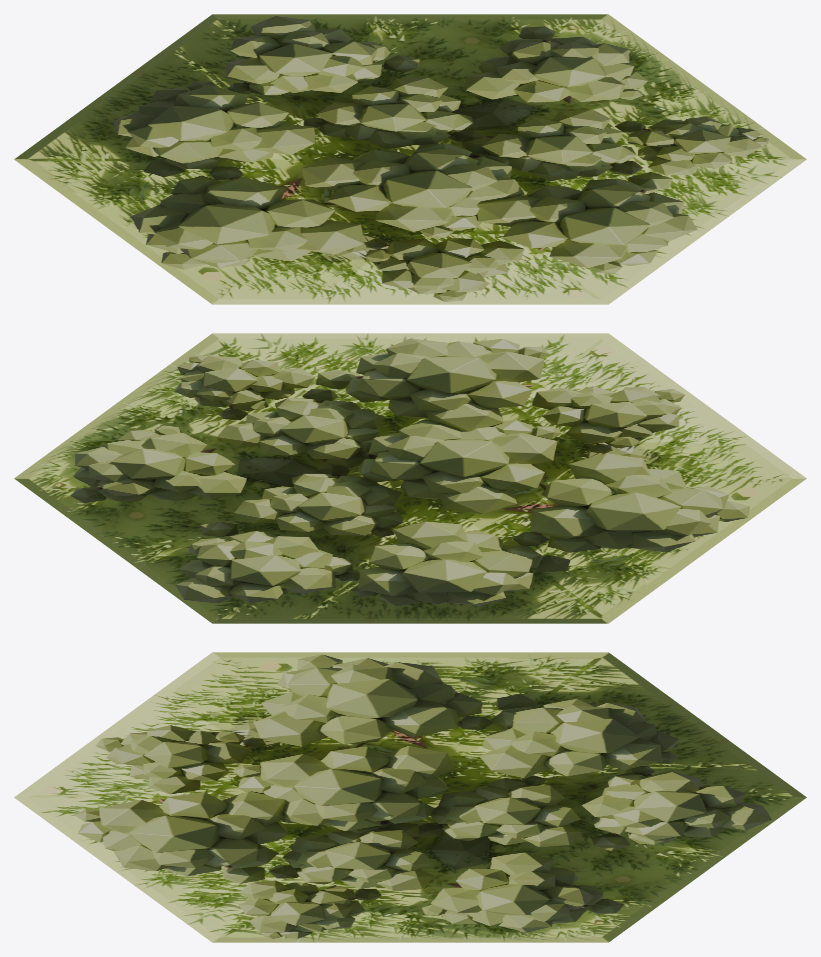
The model's file is deciduousForest.glb.
3 views of the same model, one above another, from view 1: azimuth 30°, elevation 25°; view 2: azimuth 150°, elevation 25°; view 3: azimuth 270°, elevation 25° (orthographic).
Parts seen in each view (by area): view 1: Deciduousforest_flat; view 2: Deciduousforest_flat; view 3: Deciduousforest_flat.
Part boxes in pixels (x1,y1,x2,y2): Deciduousforest_flat: (14, 14, 806, 304); Deciduousforest_flat: (14, 333, 806, 623); Deciduousforest_flat: (14, 652, 806, 942).
Size of the model in its own units: 1.73 by 4.47e-08 by 2.
Materials: 1 (1 with a texture image).
